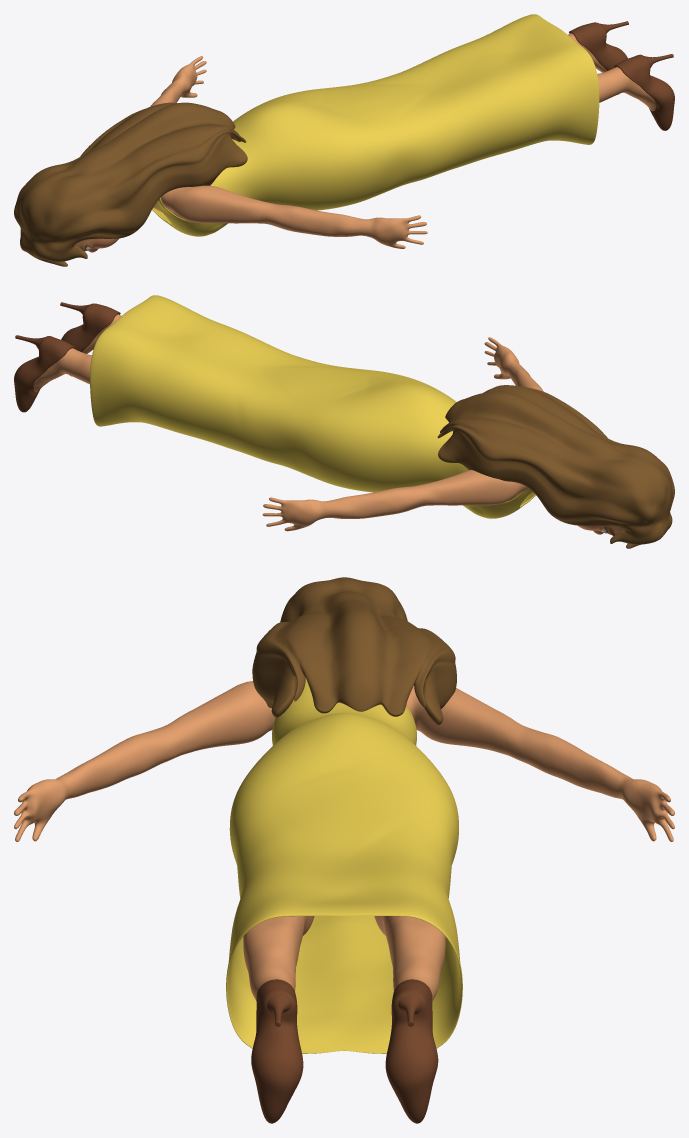
File: Woman02_Character.fbx
3 renders of one model, top to bottom at view 1: azimuth 30°, elevation 25°; view 2: azimuth 150°, elevation 25°; view 3: azimuth 270°, elevation 25°, orthographic. The views are drawn at different scales.
Visible parts, largest first — view 1: DressWoman02, HairWoman02, Woman02Body, HighheelsWoman02; view 2: DressWoman02, HairWoman02, Woman02Body, HighheelsWoman02; view 3: DressWoman02, Woman02Body, HairWoman02, HighheelsWoman02.
Part boxes in pixels (box(x1,y1,x2,y2)): DressWoman02: box(152, 14, 599, 236); HairWoman02: box(14, 102, 247, 266); Woman02Body: box(74, 33, 655, 252); HighheelsWoman02: box(569, 21, 674, 130); DressWoman02: box(90, 295, 535, 518); HairWoman02: box(437, 385, 674, 548); Woman02Body: box(33, 314, 625, 535); HighheelsWoman02: box(14, 302, 120, 412); DressWoman02: box(226, 678, 462, 1053); Woman02Body: box(14, 681, 674, 1000); HairWoman02: box(252, 577, 456, 725); HighheelsWoman02: box(251, 979, 438, 1123).
Bounding box in the file's own units: 132 × 39.84 × 215.
